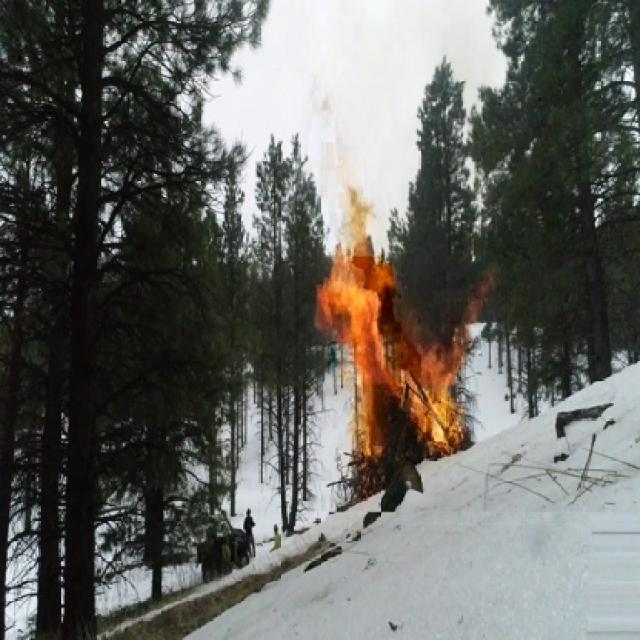Fire: (311, 185, 486, 463)
